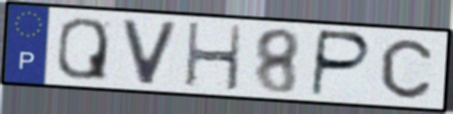8: (251, 26, 304, 95)
C: (378, 37, 435, 101)
H: (183, 20, 244, 93)
P: (308, 28, 375, 99)
Q: (54, 15, 110, 82)
V: (120, 17, 181, 87)
